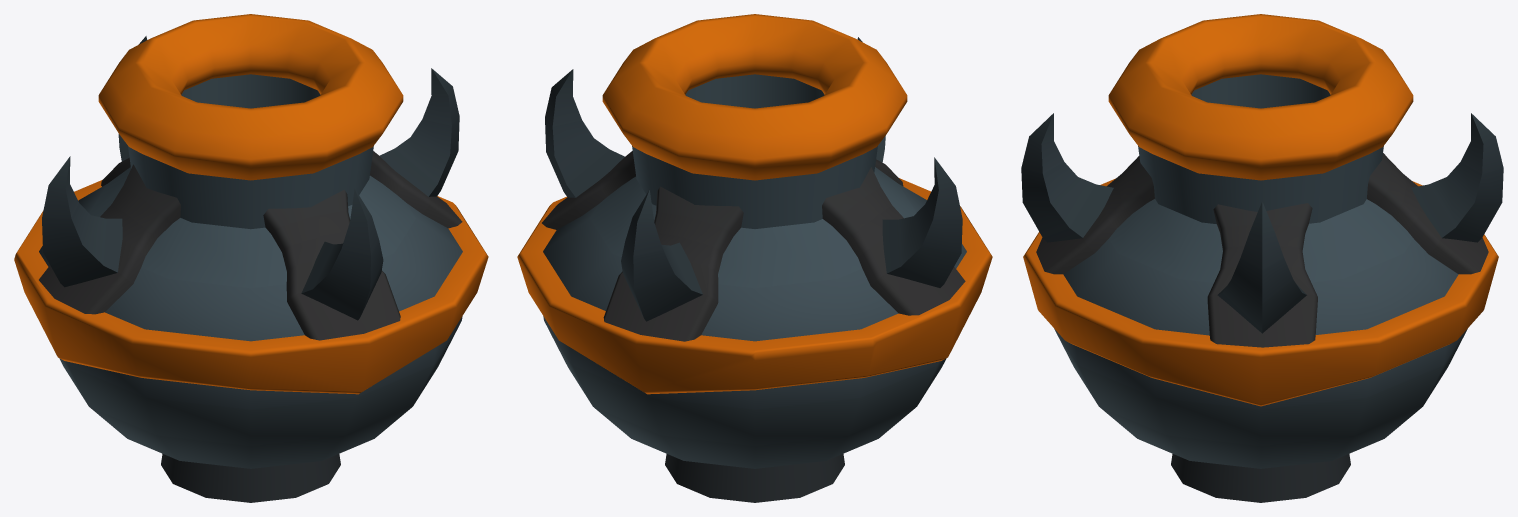
Rendered from vase_001.glb.
The picture shows the model from 3 angles, left to right: view 1: azimuth 30°, elevation 25°; view 2: azimuth 150°, elevation 25°; view 3: azimuth 270°, elevation 25°; orthographic projection.
Visible parts, largest first — view 1: Vase_001; view 2: Vase_001; view 3: Vase_001.
Part boxes in pixels (x1,y1,x2,y2): Vase_001: [14, 14, 488, 502]; Vase_001: [517, 14, 992, 502]; Vase_001: [1021, 14, 1503, 502].
Bounding box in the file's own units: 0.6687 × 0.6151 × 0.6687.
